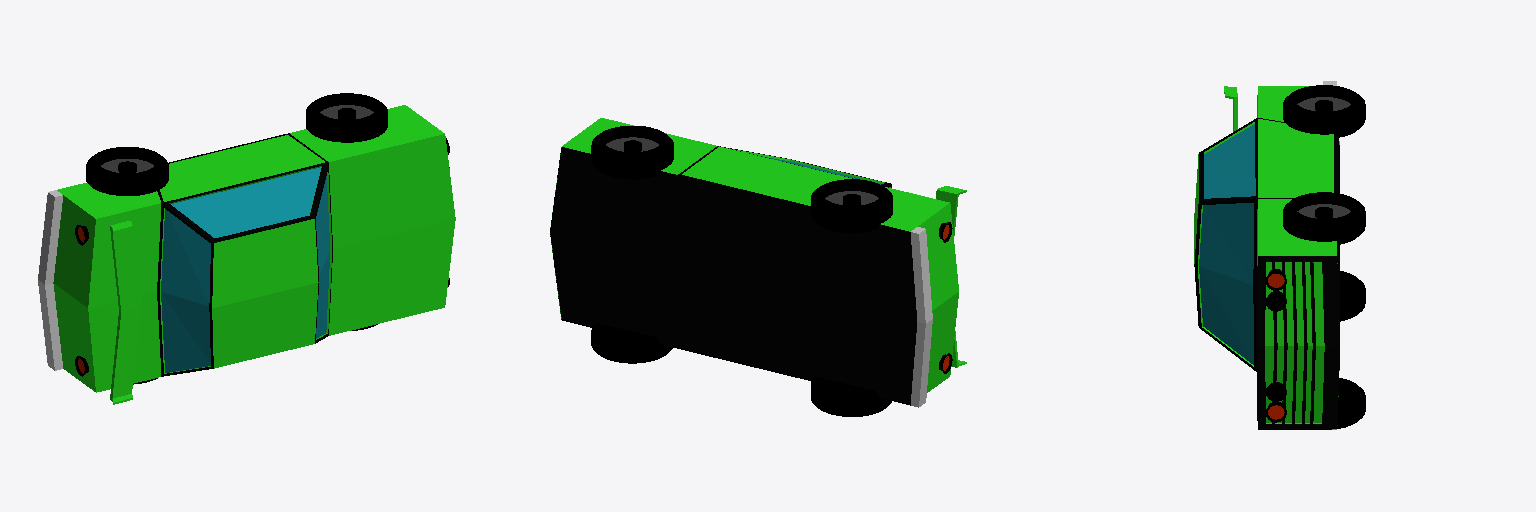
The model's file is car1.obj.
The picture shows the model from 3 angles: view 1: azimuth 30°, elevation 25°; view 2: azimuth 150°, elevation 25°; view 3: azimuth 270°, elevation 25°; orthographic projection.
Parts seen in each view (by area): view 1: Cube, Circle.001; view 2: Cube, Circle.001; view 3: Cube, Circle.001, Circle.
Part boxes in pixels (bbox=[...]): Cube: bbox=[38, 105, 455, 404]; Circle.001: bbox=[86, 93, 387, 384]; Cube: bbox=[550, 118, 966, 407]; Circle.001: bbox=[591, 126, 892, 416]; Cube: bbox=[1194, 81, 1339, 429]; Circle.001: bbox=[1283, 85, 1365, 428]; Circle: bbox=[1266, 269, 1286, 422].
Size of the model in its own units: 6.51 by 3.46 by 2.57.